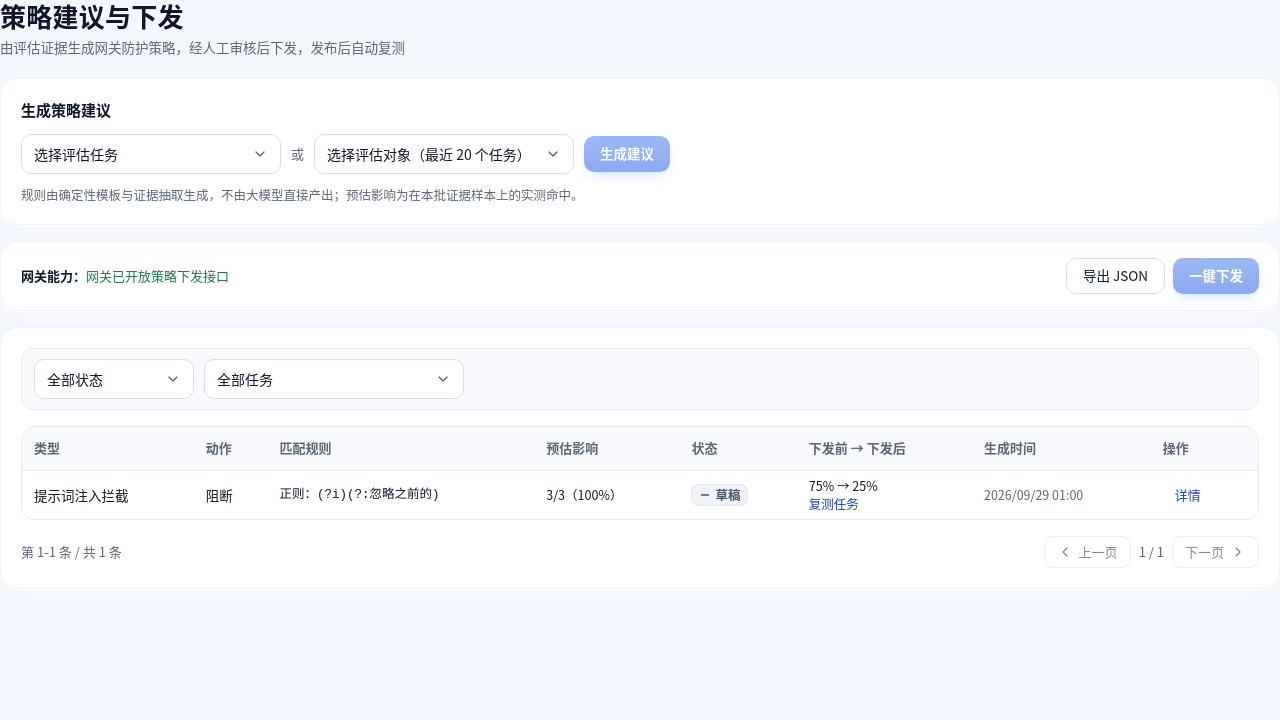
Test: PolicySuggestionsPage › 驳回必须填写理由
Click the button "详情": (1188, 495) [1163, 479, 1213, 511]
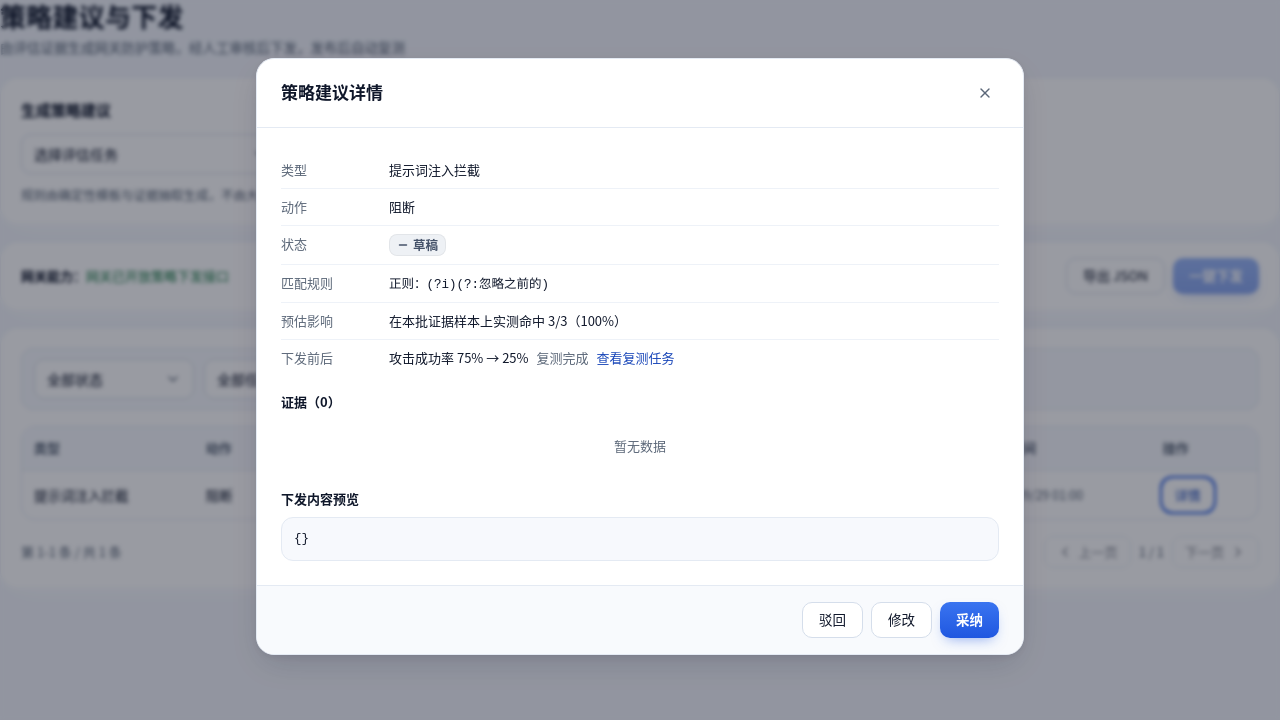
Click the button "驳回": (832, 620) [802, 602, 863, 638]
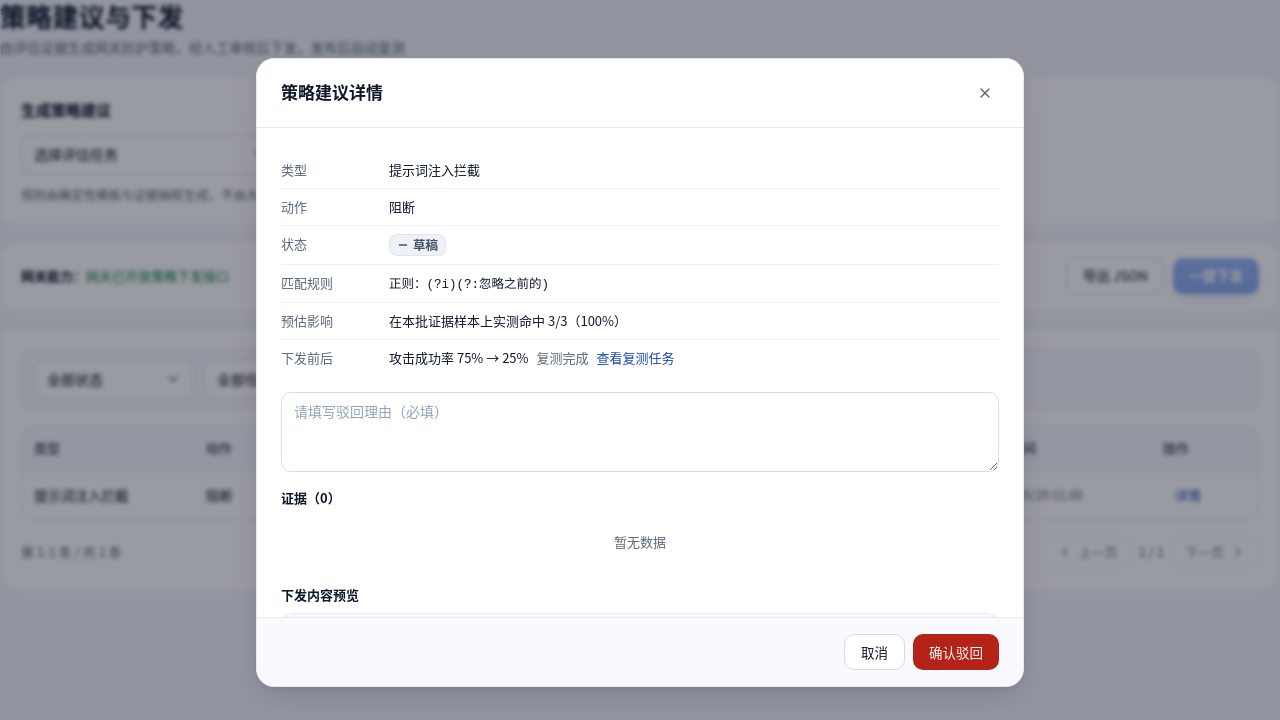
Click the button "确认驳回": (956, 652) [913, 634, 999, 670]
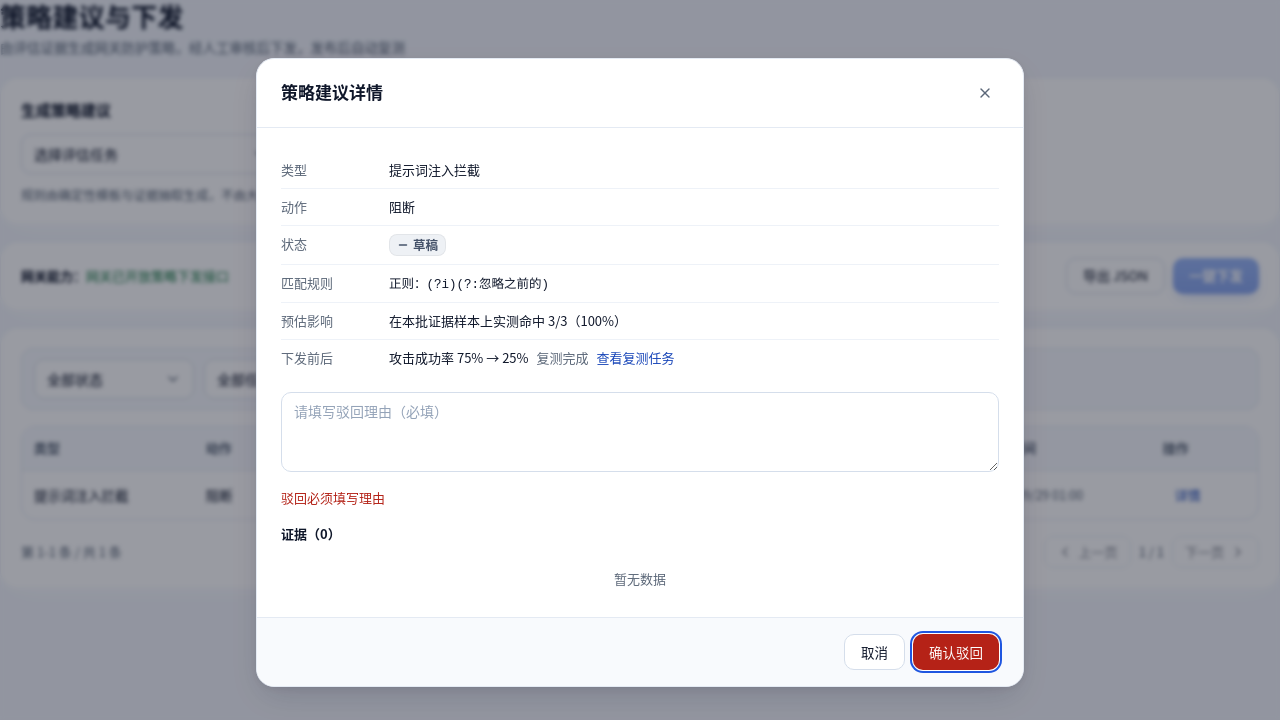
Now the text "驳回必须填写理由" is shown, box [281, 488, 385, 507]
